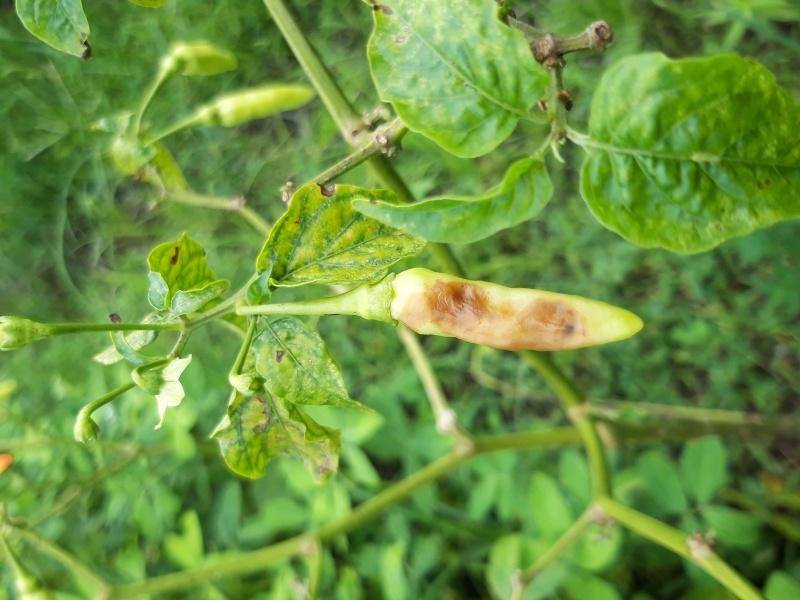lalat_buah: (389, 267, 644, 353)
